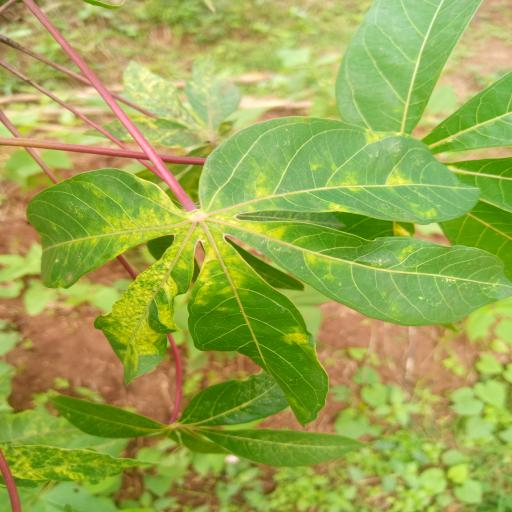Cassava_Mosaic: (28, 119, 504, 419)
